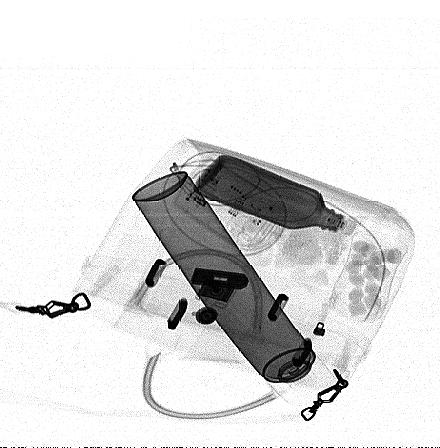Sprayer: (133, 172, 336, 406)
